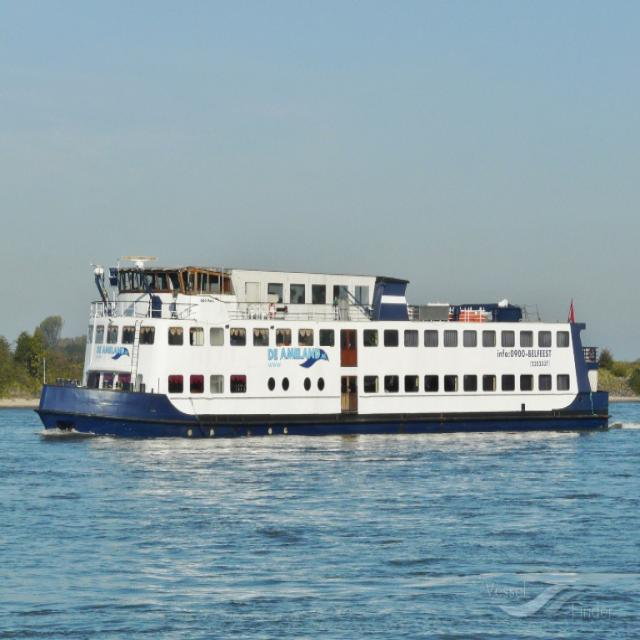OCR: (258, 346, 330, 371)
